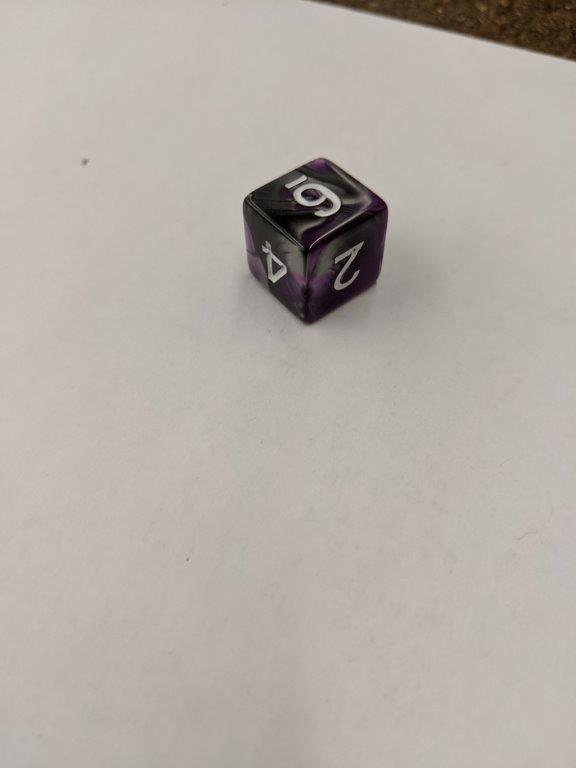d6-6: (242, 158, 391, 325)
